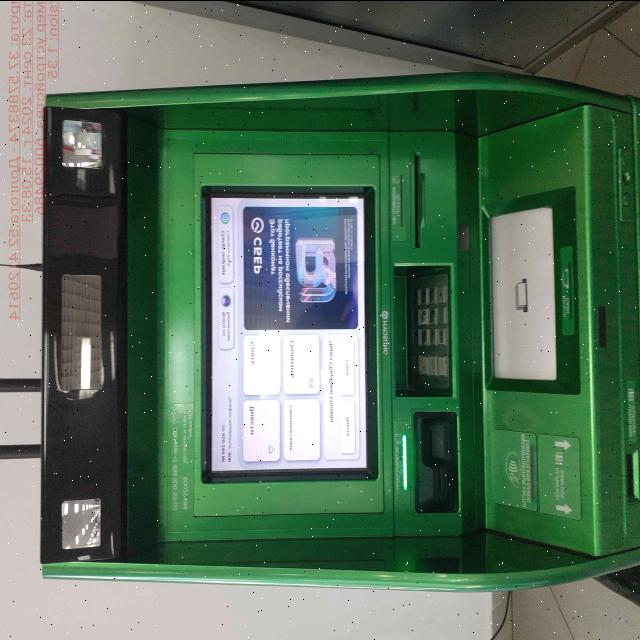bank: (31, 64, 640, 588)
